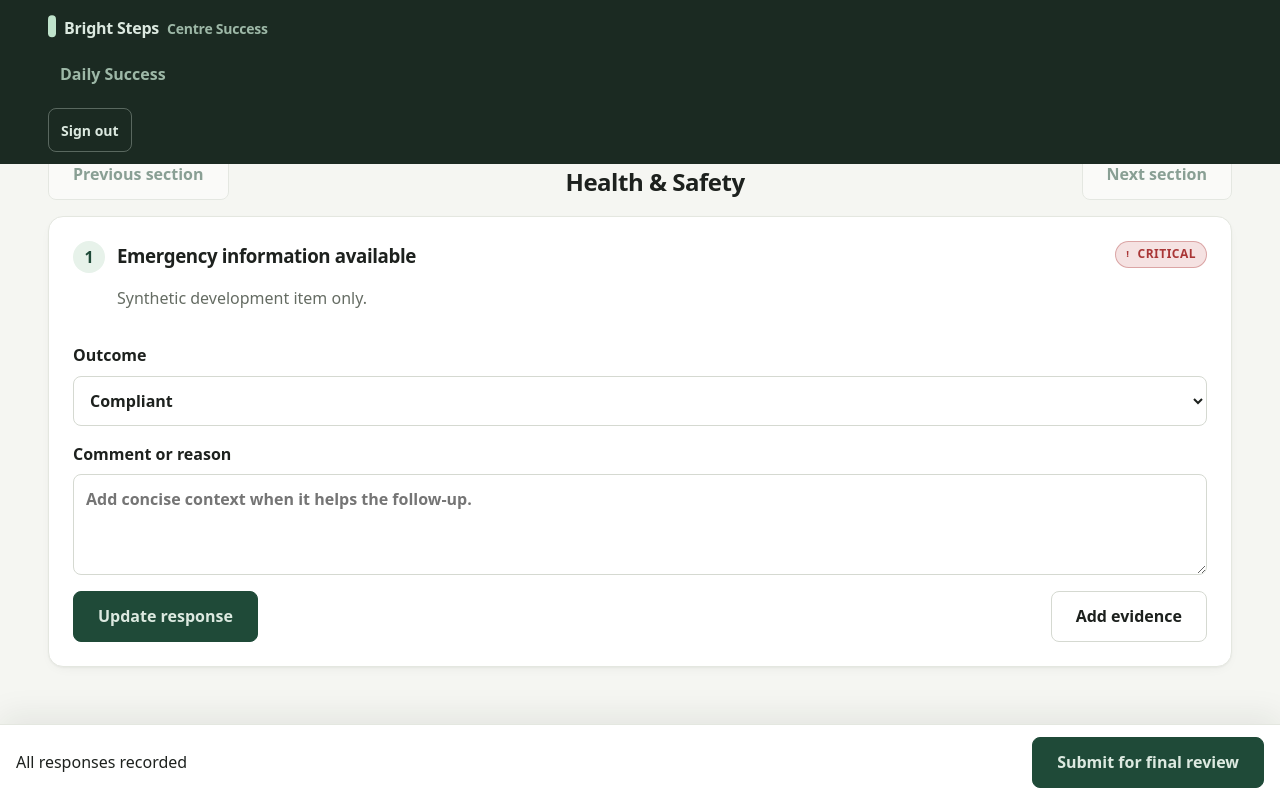
Scenario: Milestone 2B role-focused workflows › Area Manager saves a response and completes the ready/finalise workflow
(page scrolled)
Select "Immediate action required" in the dropdown labelled "Outcome": [640, 400] box [73,376,1207,426]
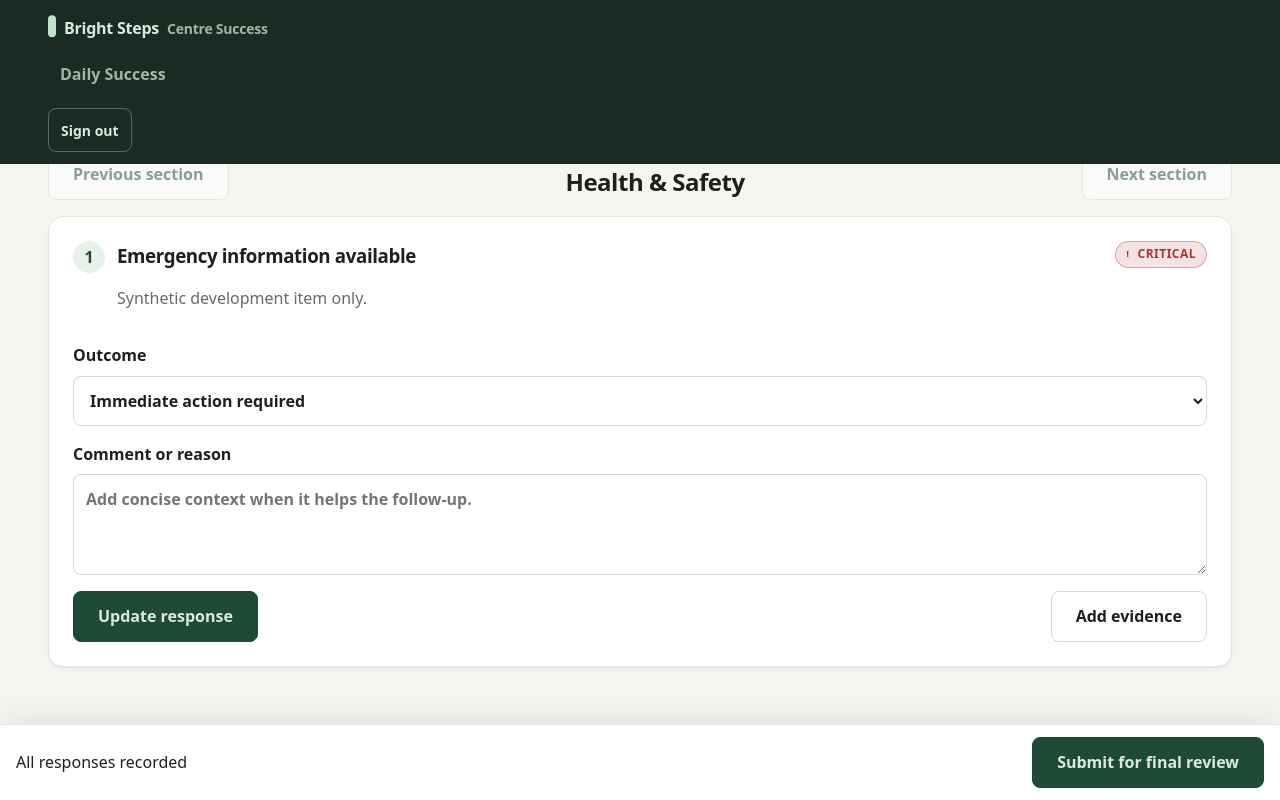
In the text box labelled "Comment or reason": [640, 524] box [73,474,1207,575], type "Synthetic immediate concern"
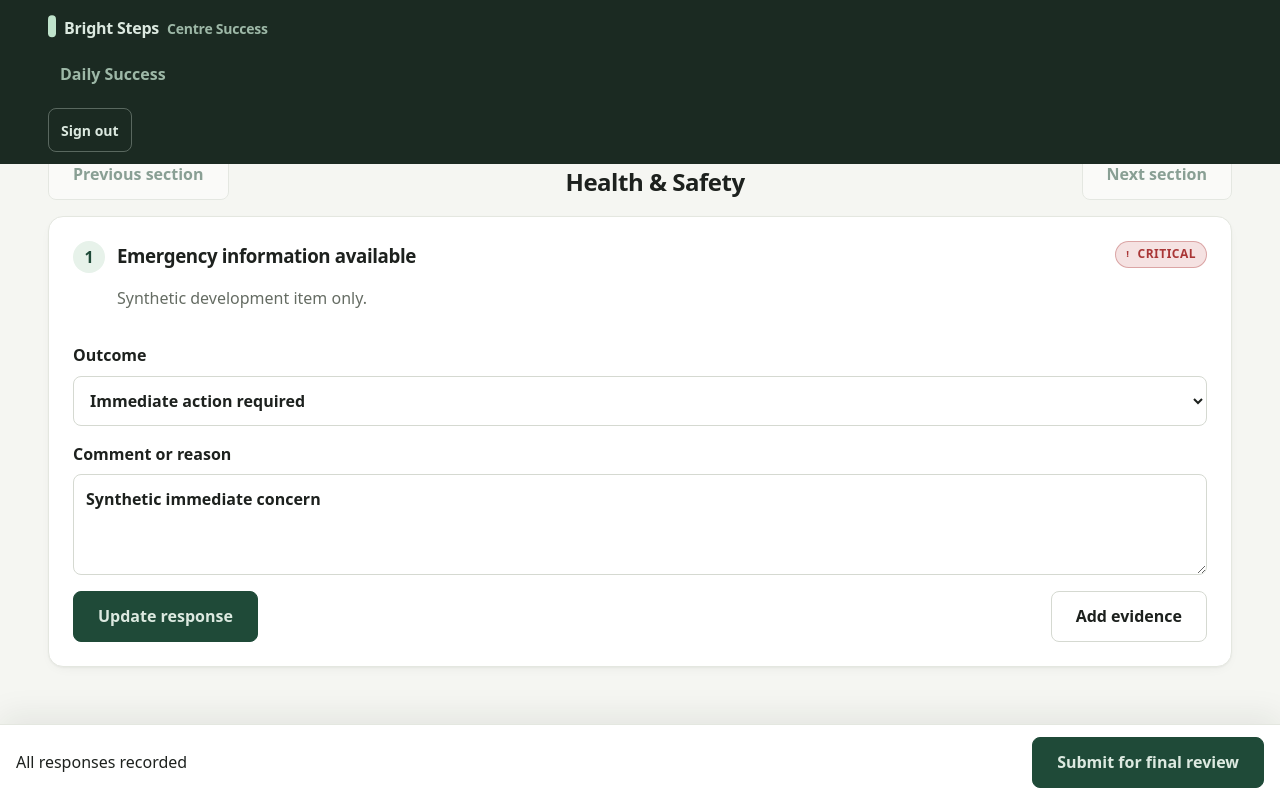
Click the button "Update response": [165, 616] box [73,591,258,642]
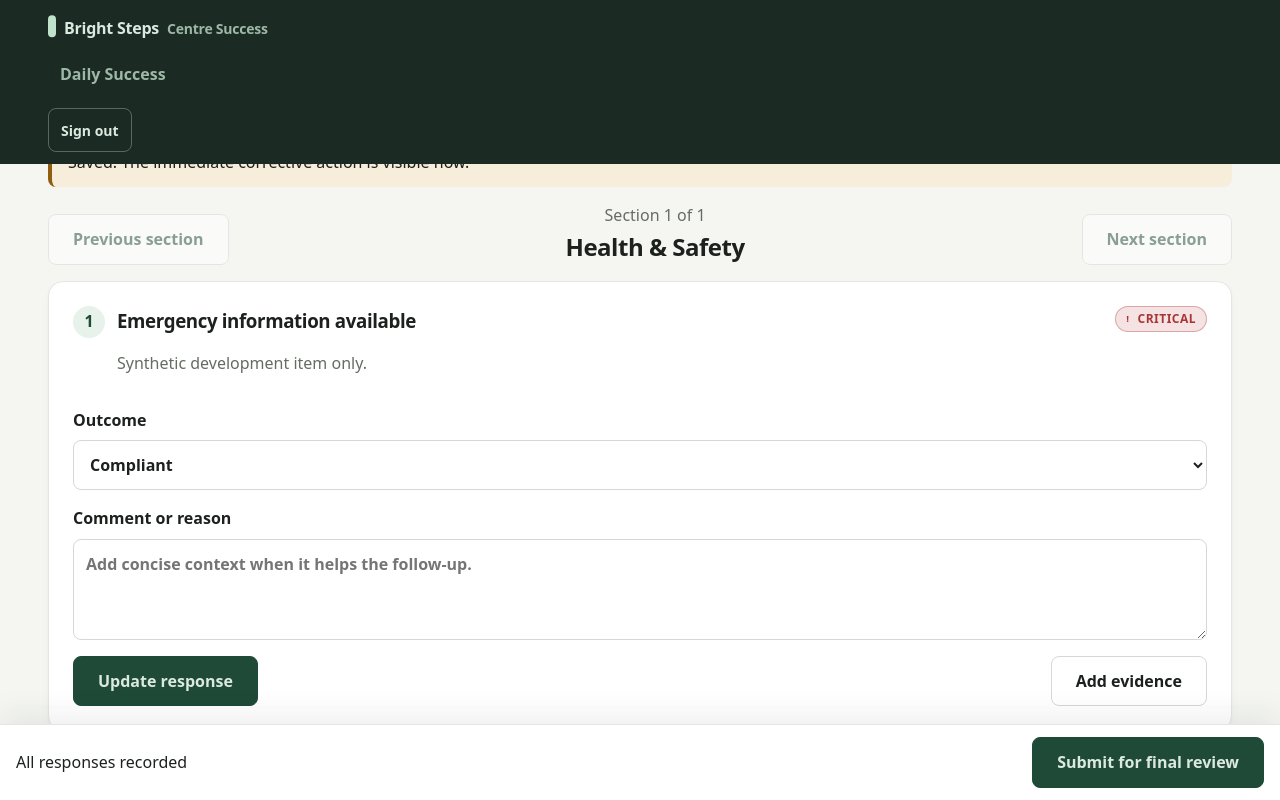
Click the button "Submit for final review": [1148, 763] box [1032,737,1264,788]
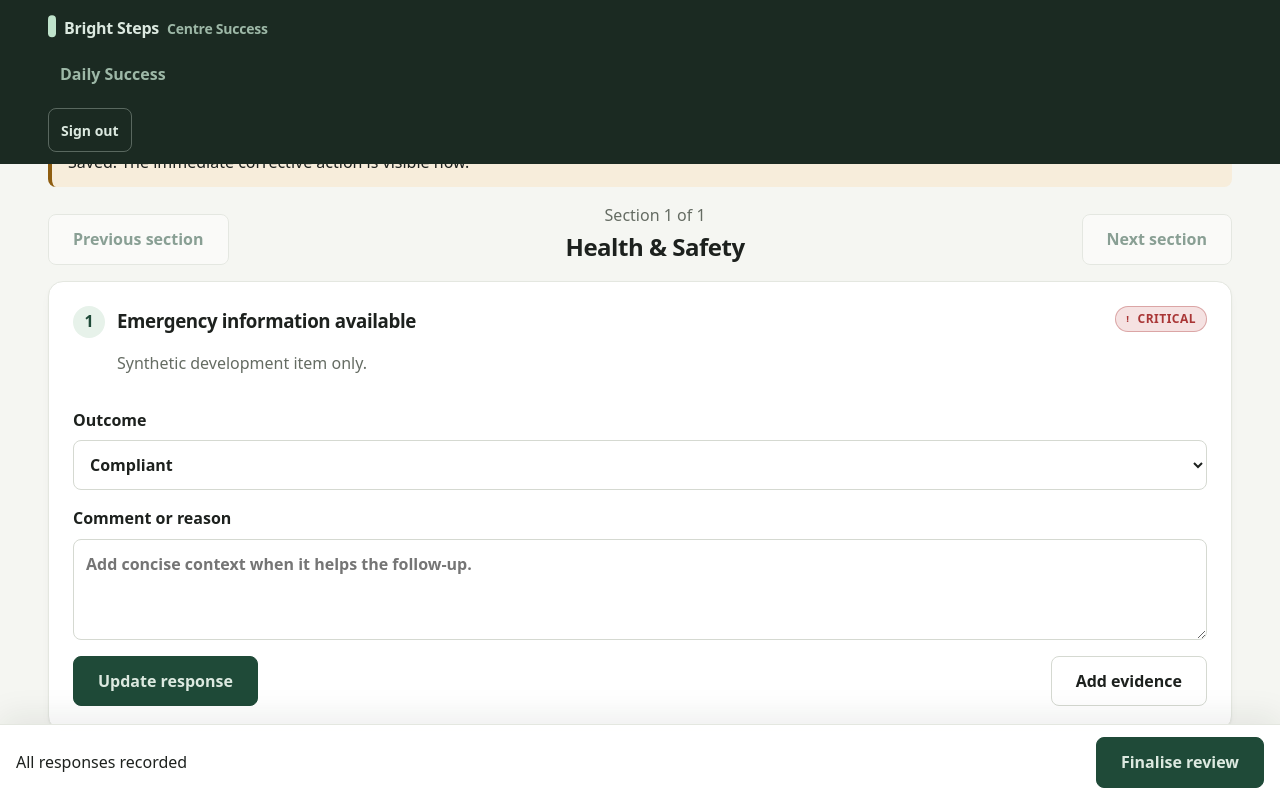
Result: the button "Finalise review" is shown
Click the button "Finalise review": [1180, 763] box [1096,737,1264,788]
(page scrolled)
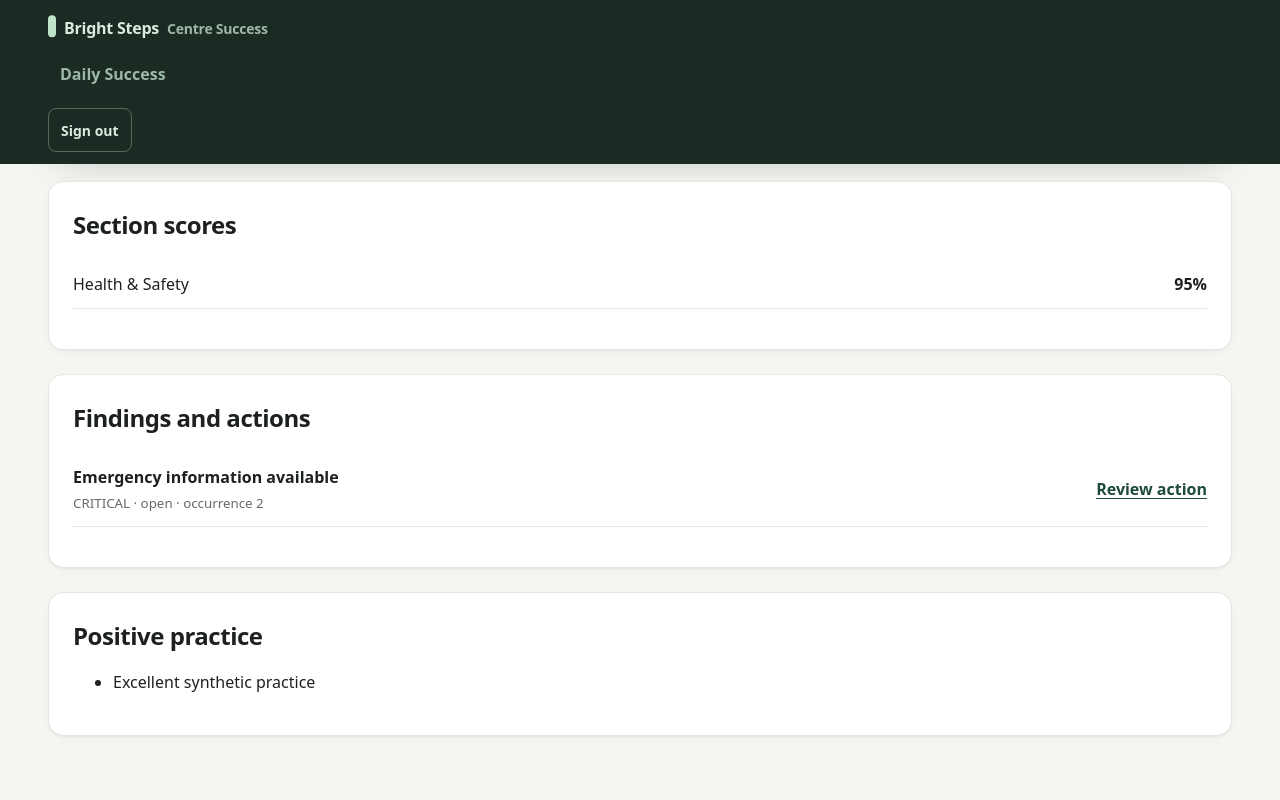
Result: the heading "Section scores" is shown at [73,208,236,242]
